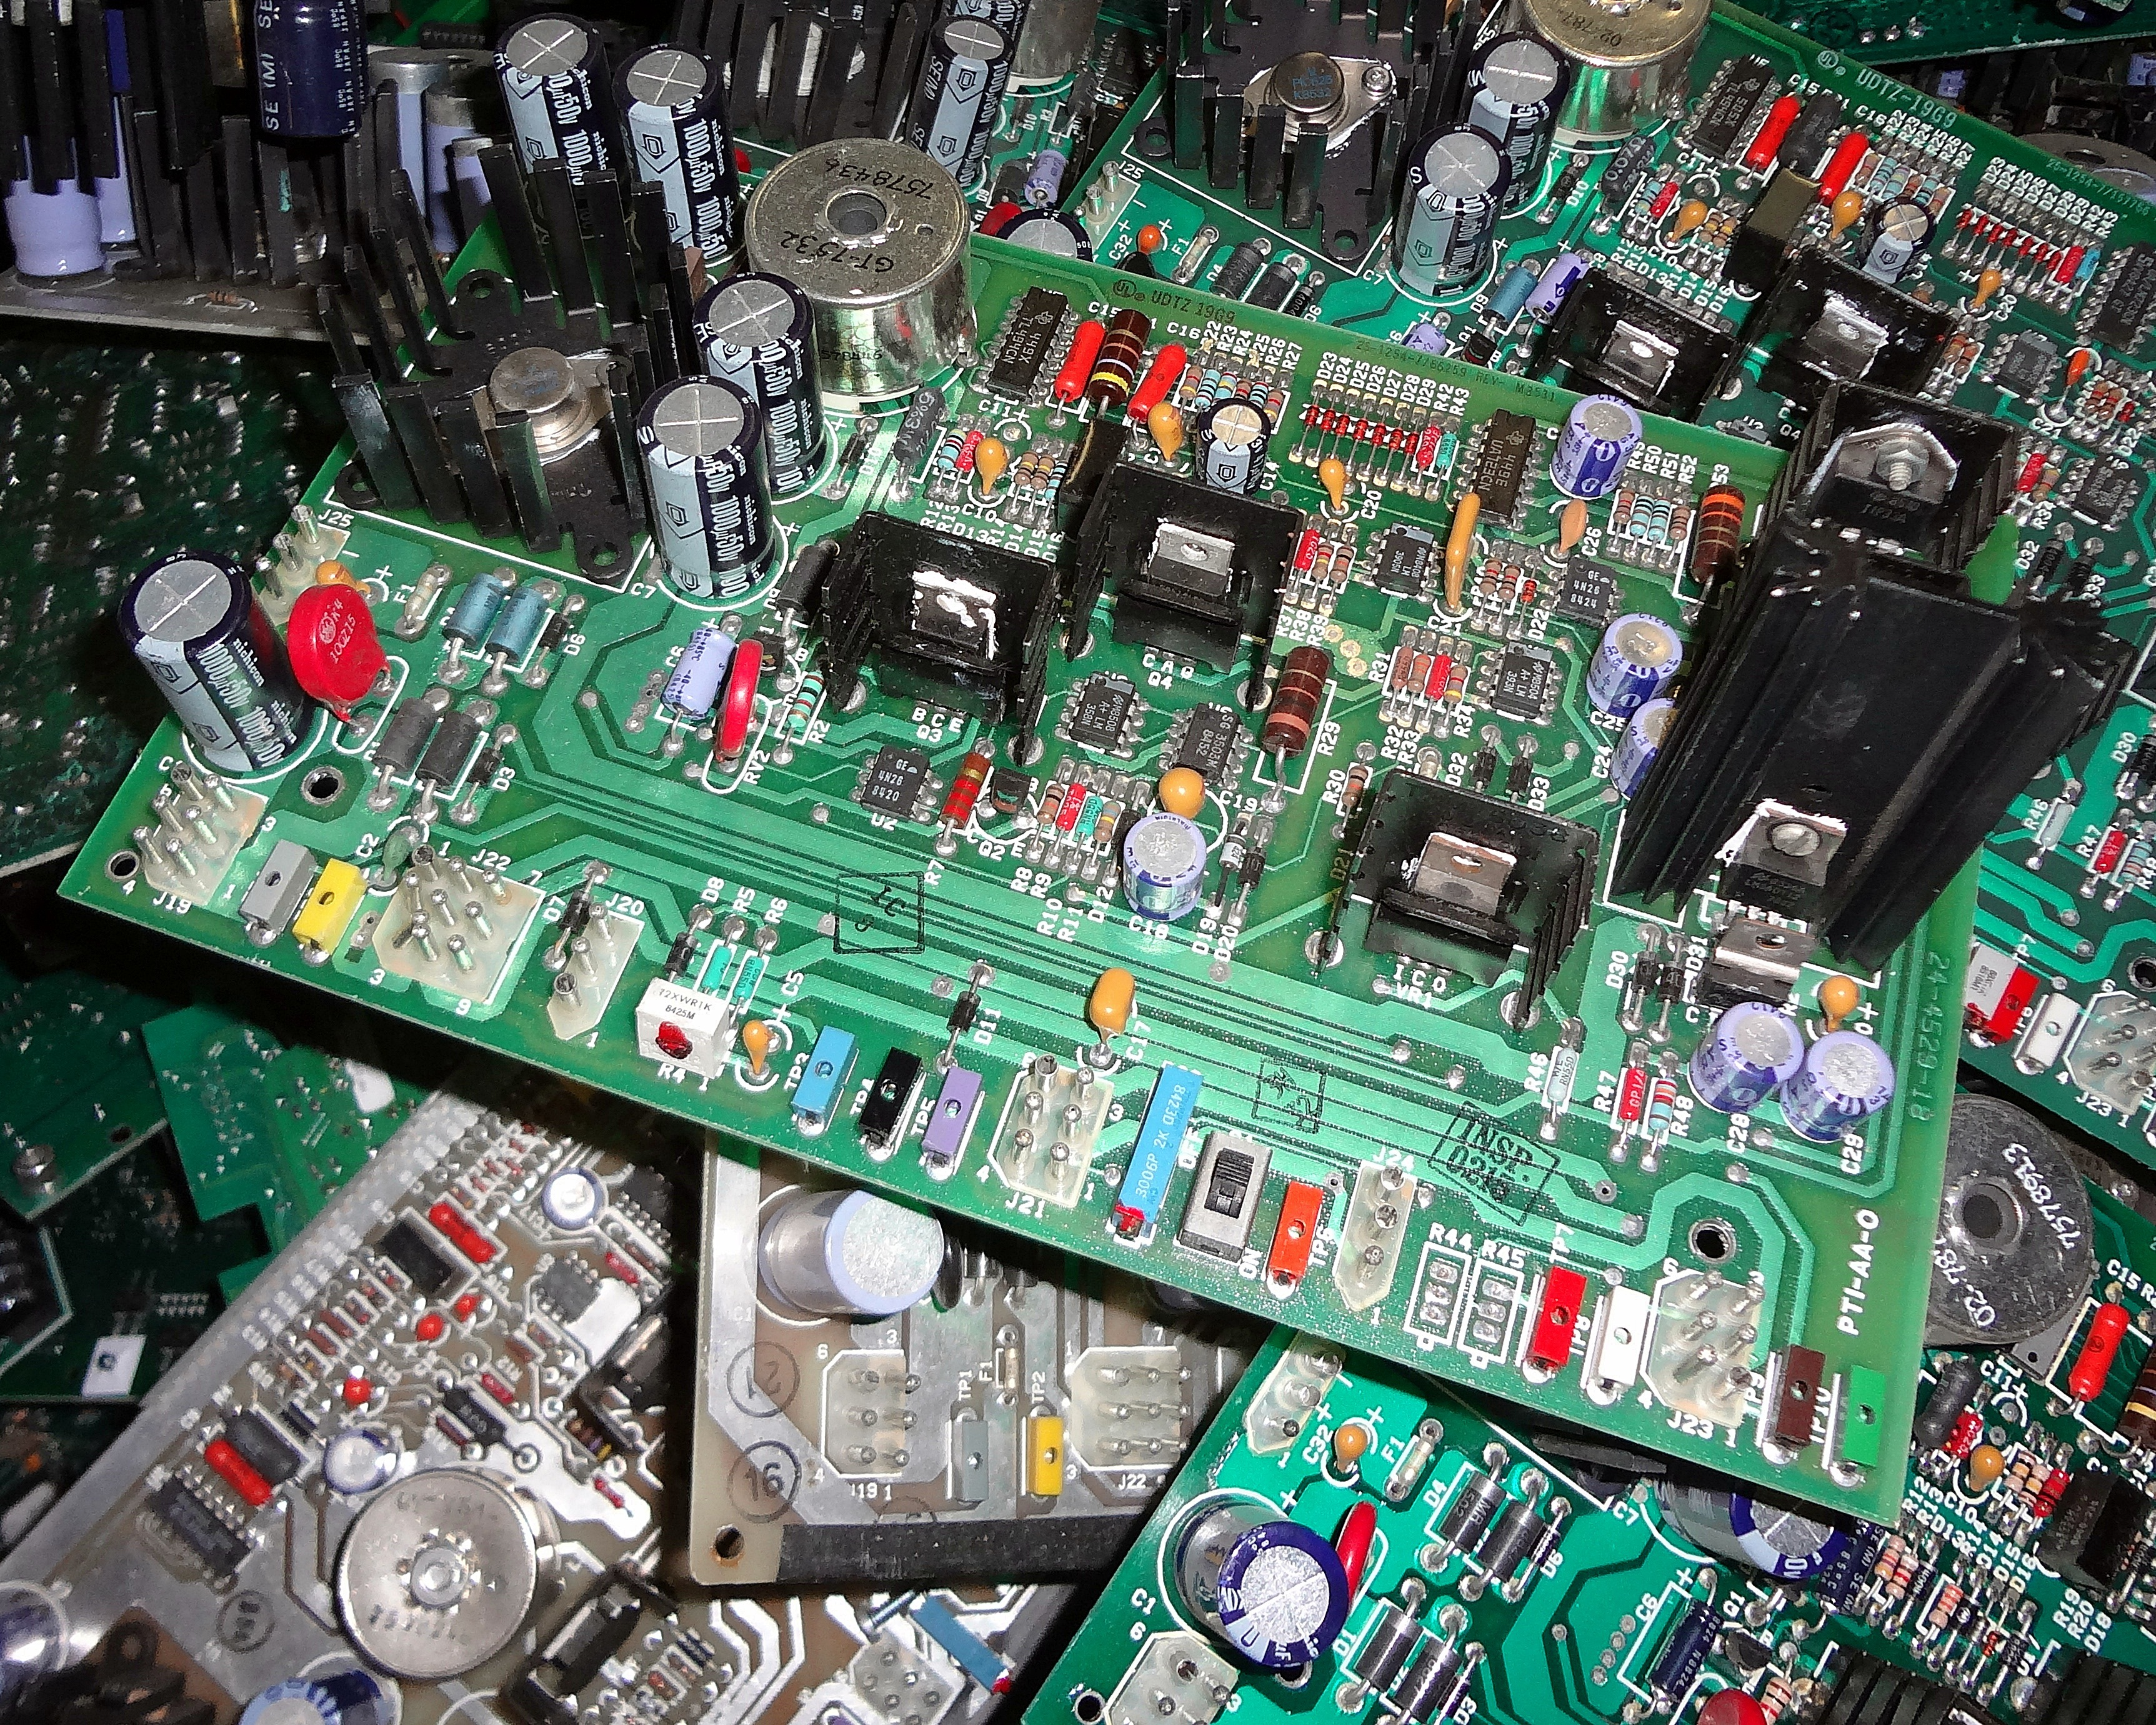Capacitor: (114, 546, 322, 776), (630, 370, 780, 607), (686, 264, 831, 500), (488, 5, 634, 232), (1169, 1496, 1353, 1670), (609, 35, 750, 262), (752, 1179, 943, 1325), (1651, 1445, 1857, 1581), (1383, 120, 1515, 303), (1448, 21, 1572, 213), (889, 12, 1017, 190), (1779, 1026, 1901, 1148), (1686, 998, 1809, 1116), (229, 1658, 414, 1725), (1584, 607, 1686, 716), (1545, 387, 1642, 500), (1607, 692, 1688, 808), (1190, 396, 1272, 498), (660, 625, 739, 730), (982, 204, 1100, 269), (317, 1415, 400, 1498), (1857, 195, 1936, 280), (1526, 243, 1593, 336), (535, 1163, 605, 1236), (1024, 143, 1074, 211), (1390, 317, 1461, 356)
Diode: (1376, 1630, 1475, 1725), (1348, 1598, 1426, 1699), (1434, 1464, 1514, 1561), (1468, 1494, 1544, 1588), (1209, 236, 1264, 303), (553, 880, 600, 947), (1522, 1512, 1566, 1581), (942, 984, 986, 1051), (660, 922, 706, 986), (1246, 255, 1299, 310), (1431, 1665, 1478, 1723), (463, 741, 509, 796), (537, 606, 574, 669), (1901, 1554, 1941, 1611), (1941, 1589, 1984, 1642), (1214, 824, 1250, 887), (1653, 954, 1688, 1014), (1236, 836, 1272, 892), (1624, 942, 1660, 1000), (2031, 533, 2068, 588), (838, 419, 871, 479), (1996, 1625, 2033, 1677), (671, 1628, 718, 1669), (1544, 160, 1582, 209), (2061, 547, 2098, 598), (991, 155, 1030, 202), (2126, 1530, 2156, 1586), (1468, 741, 1501, 790), (1503, 750, 1536, 799), (2126, 730, 2156, 785), (1281, 278, 1318, 320), (630, 1685, 671, 1720), (1962, 1607, 1992, 1655), (1007, 92, 1035, 132), (1976, 1628, 2005, 1663), (1315, 403, 1339, 442), (1301, 396, 1322, 440), (1387, 419, 1408, 463), (1331, 407, 1353, 447), (2043, 243, 2066, 282), (1366, 415, 1389, 454), (1517, 576, 1540, 613), (1996, 222, 2020, 255), (2013, 231, 2038, 264), (1952, 204, 1976, 236), (1348, 414, 1371, 447), (1971, 208, 1992, 241), (2031, 238, 2052, 271), (2117, 396, 2138, 429), (1401, 428, 1422, 461), (1985, 218, 2006, 250)
Resistor: (1255, 641, 1334, 776), (1677, 481, 1751, 604), (1084, 299, 1149, 421), (933, 745, 996, 841), (783, 665, 831, 739), (560, 1410, 620, 1466), (1867, 1526, 1908, 1584), (1996, 1447, 2038, 1501), (1753, 1667, 1792, 1725), (2112, 838, 2156, 889), (1647, 1070, 1677, 1144), (931, 424, 968, 482), (1927, 1579, 1964, 1635), (1089, 794, 1125, 852), (2033, 1468, 2072, 1521), (1881, 1551, 1920, 1602), (1033, 778, 1068, 831), (642, 1665, 686, 1707), (2013, 1463, 2052, 1510), (1325, 540, 1359, 595), (1005, 447, 1042, 493), (1339, 762, 1371, 815), (1028, 451, 1058, 503), (1626, 488, 1656, 540), (664, 1649, 706, 1686), (1948, 338, 1984, 382), (1632, 176, 1665, 222), (1404, 648, 1434, 699), (1443, 662, 1473, 713), (1477, 553, 1507, 602), (1308, 539, 1338, 588), (1880, 160, 1913, 204), (1494, 560, 1526, 606), (1258, 382, 1290, 428), (1665, 500, 1693, 551), (1695, 208, 1725, 255), (1192, 364, 1221, 412), (1044, 454, 1070, 507), (1610, 482, 1637, 533), (1940, 329, 1971, 371), (2080, 378, 2112, 421), (2031, 465, 2061, 507), (1209, 370, 1239, 412), (1244, 375, 1272, 419), (1647, 495, 1670, 546), (1850, 151, 1880, 190), (1709, 213, 1737, 253), (2096, 384, 2124, 424), (1871, 151, 1897, 194), (1179, 361, 1206, 403), (1899, 169, 1925, 202), (1929, 181, 1954, 215), (1915, 172, 1940, 204), (1230, 377, 1255, 403)
